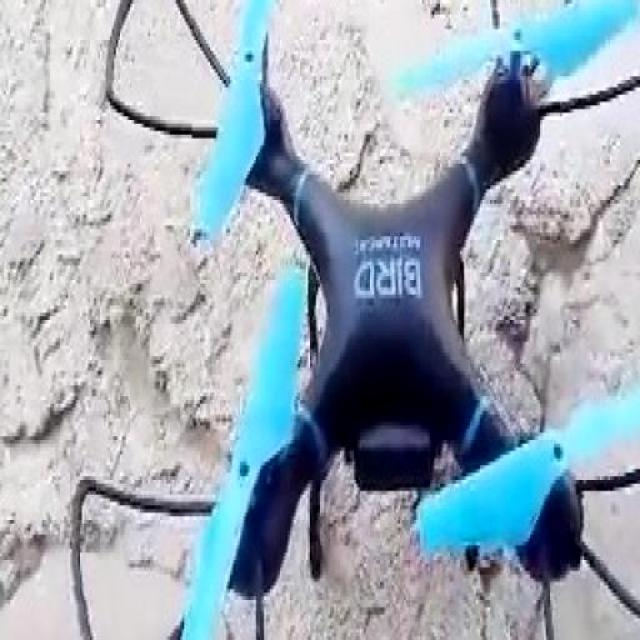bird: (78, 0, 640, 640)
